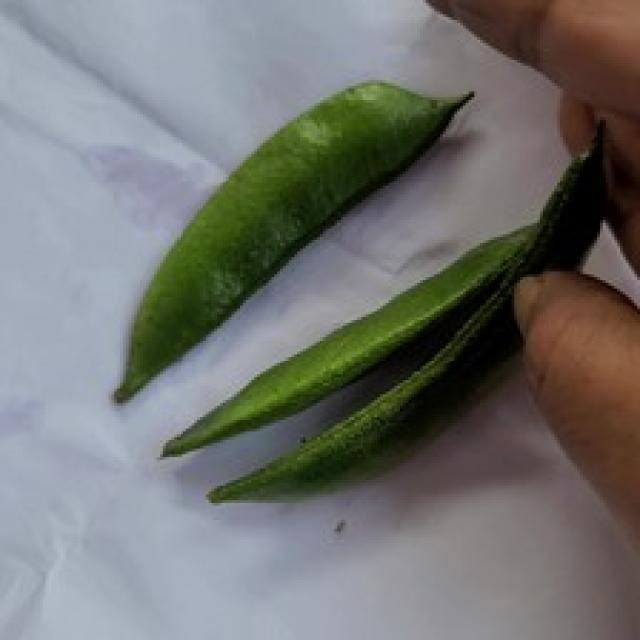Bean: (163, 114, 608, 503), (109, 77, 474, 403)
